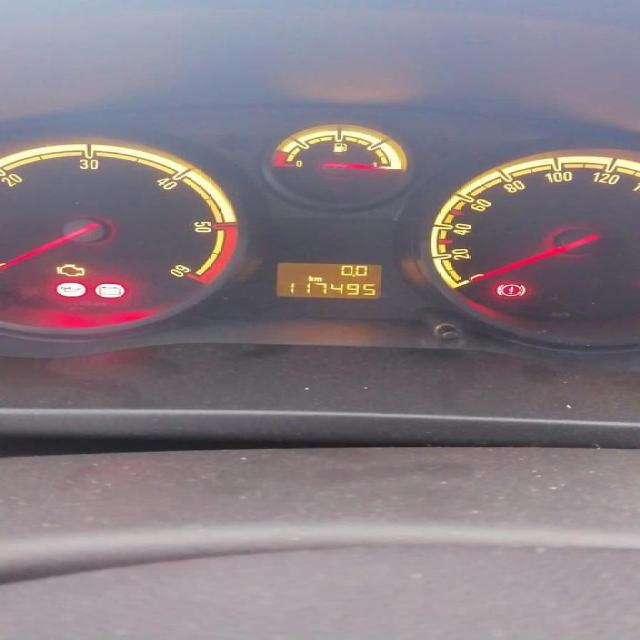odometer: (271, 260, 383, 300)
